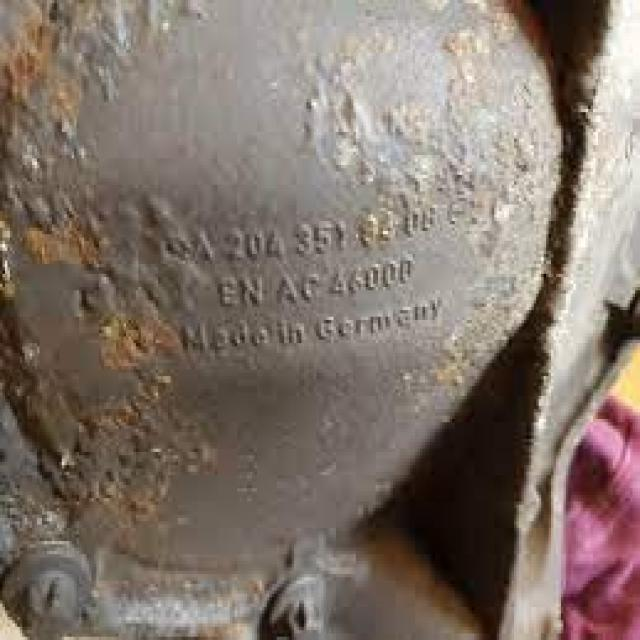ocr: (165, 180, 473, 364)
